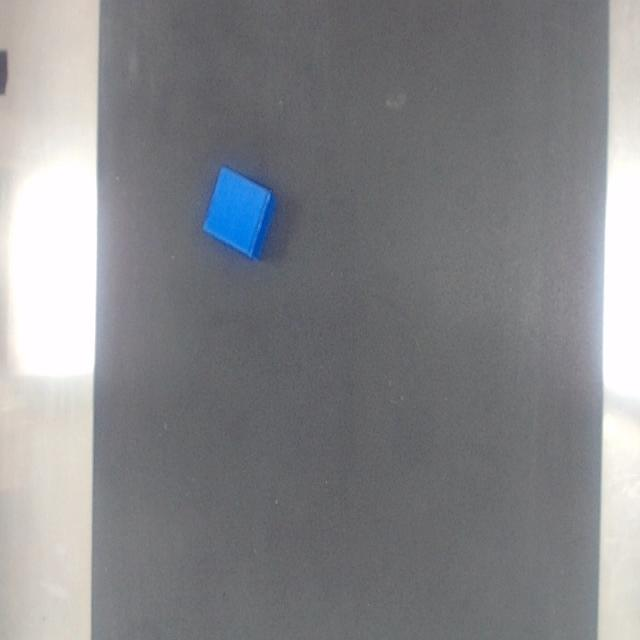Azul: (203, 167, 274, 260)
